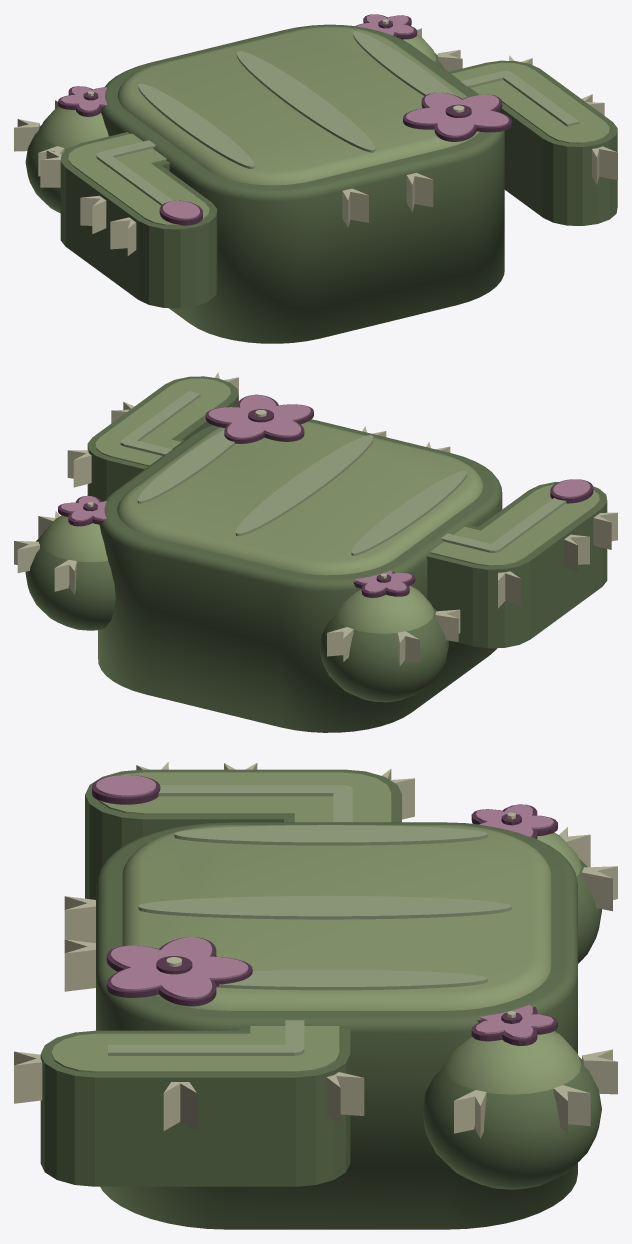
The model's file is body_cacto.fbx.
The picture shows the model from 3 angles, top to bottom: view 1: azimuth 30°, elevation 25°; view 2: azimuth 150°, elevation 25°; view 3: azimuth 270°, elevation 25°; orthographic projection. The views are drawn at different scales.
Parts seen in each view (by area): view 1: body_cacto_corpo, body_cacto_mao_esq, body_cacto_mao; view 2: body_cacto_corpo, body_cacto_mao_esq, body_cacto_mao; view 3: body_cacto_corpo, body_cacto_mao, body_cacto_mao_esq.
Boxes of the visible parts, x1,y1,x2,y2 form: body_cacto_corpo: (40, 24, 617, 343); body_cacto_mao_esq: (14, 86, 108, 213); body_cacto_mao: (355, 14, 462, 71); body_cacto_corpo: (67, 372, 617, 732); body_cacto_mao_esq: (320, 570, 460, 702); body_cacto_mao: (14, 495, 115, 630); body_cacto_corpo: (14, 762, 577, 1229); body_cacto_mao: (422, 1005, 617, 1189); body_cacto_mao_esq: (471, 804, 617, 963).
Bounding box in the file's own units: 6.52 × 2.14 × 5.01.
Materials: 1 (1 with a texture image).
